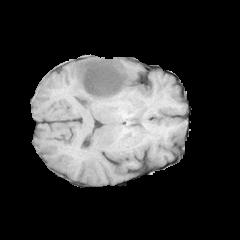glioma: (70, 57, 135, 108)
